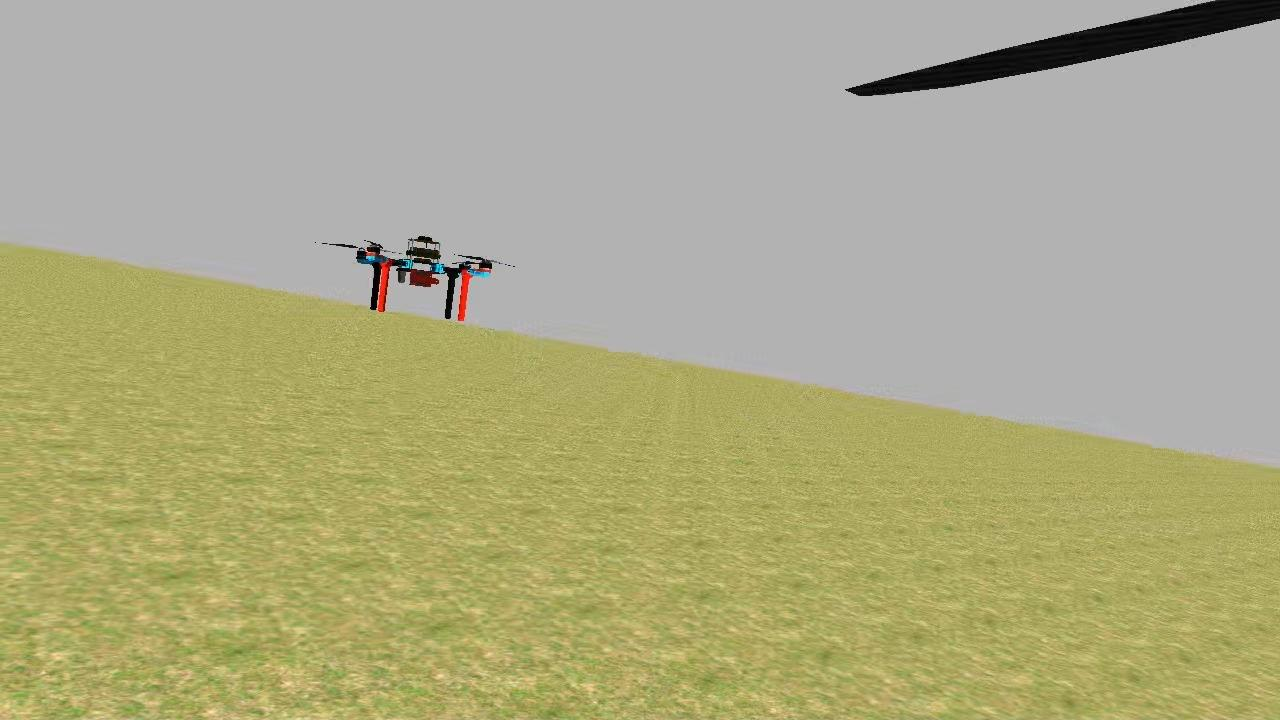UAV: (348, 228, 498, 324)
